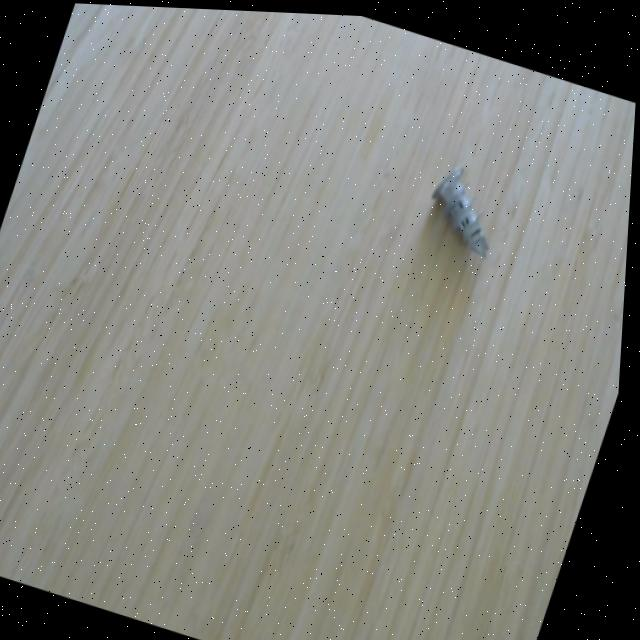Short screw: (412, 146, 523, 260)
